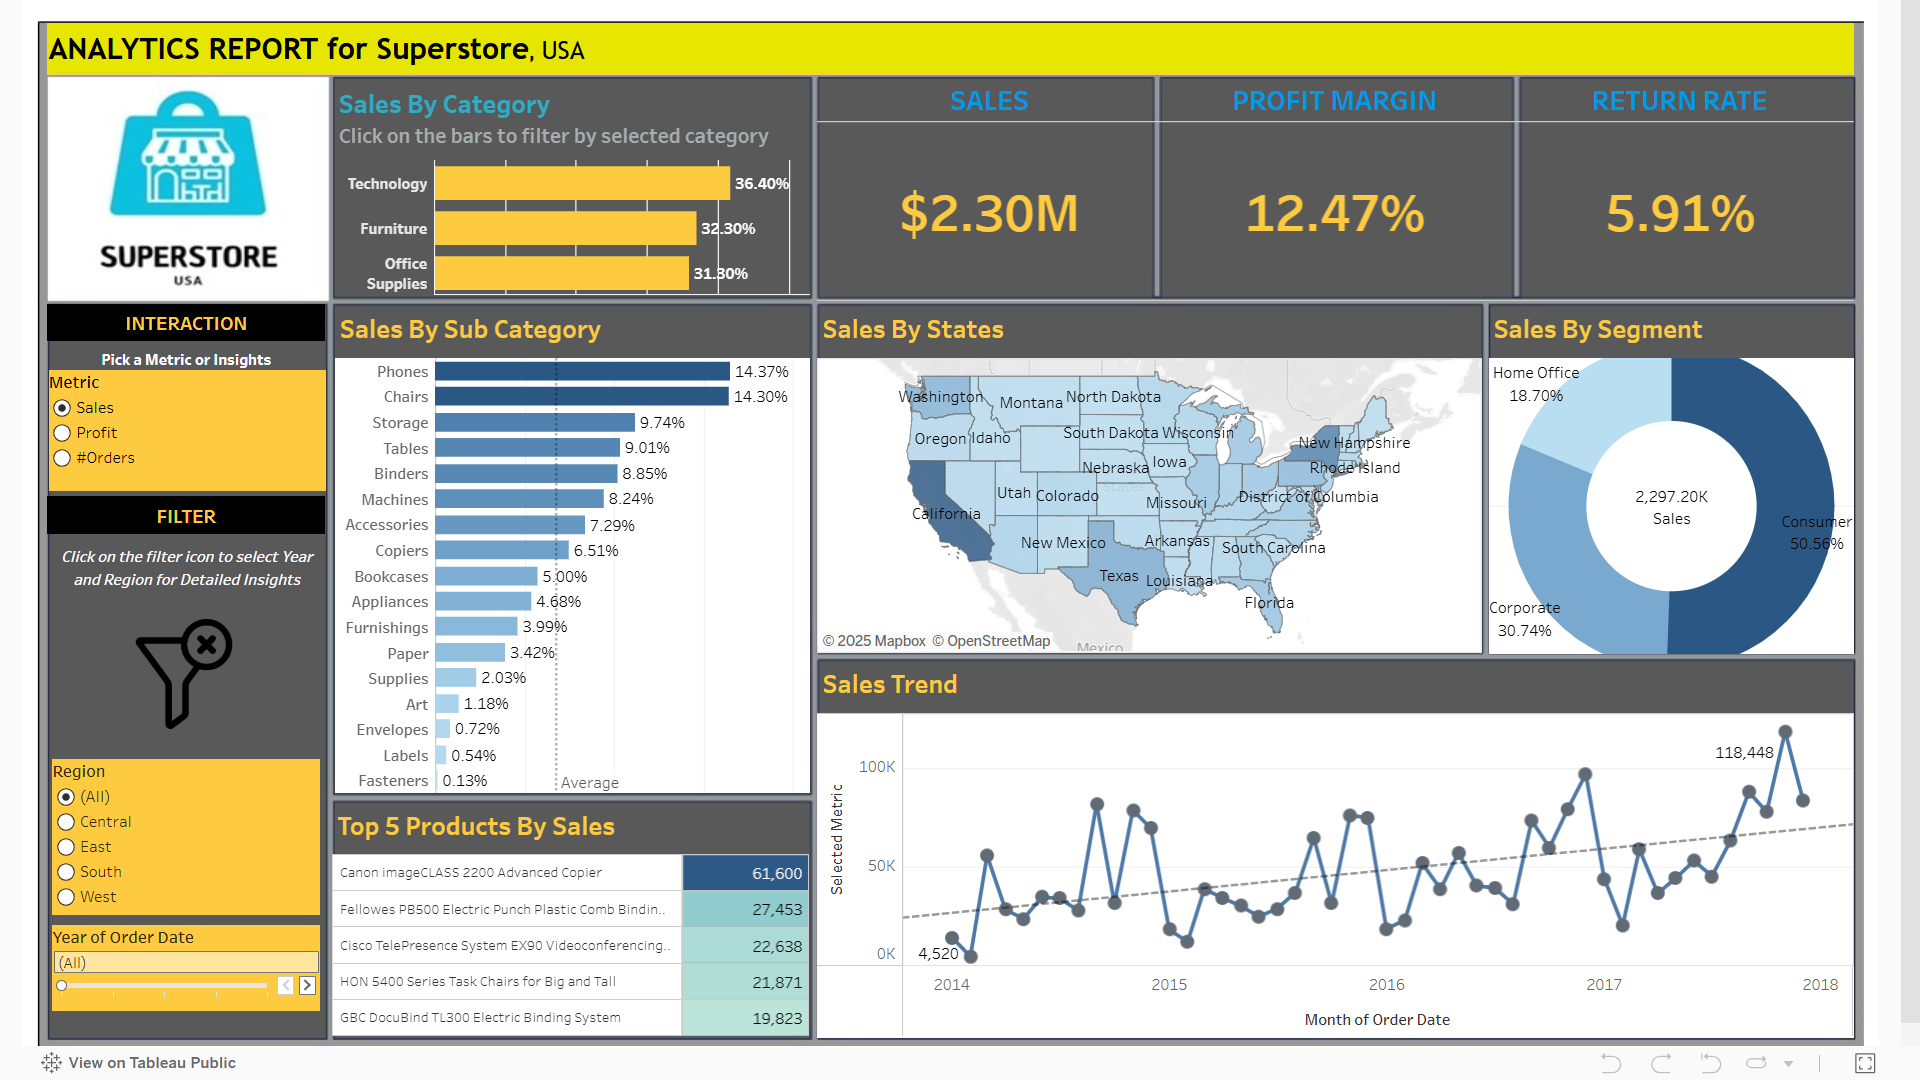

The dashboard page shown, as its layout file describes it:
{"tool":"tableau","page":{"name":"Dashboard","canvas":[1485,856],"ordinal":0},"visuals":[{"type":"image","param":"C:/Users/Soham Indore/OneDrive/Documents/My Tableau Repository/Workbooks/Superst","box":[8,8,1469,840]},{"type":"text","box":[20,18,1445,42]},{"type":"worksheet","title":"KPIs","mark":"Automatic","box":[636,61,829,180]},{"type":"worksheet","title":"CatSales","mark":"Automatic","rows":["Category"],"cols":["Calculation_141300484913192960"],"box":[249,62,381,174]},{"type":"text","box":[20,243,222,30]},{"type":"worksheet","title":"SubCatSales","mark":"Automatic","rows":["Sub-Category"],"cols":["Calculation_141300484913192960"],"box":[250,243,380,392]},{"type":"worksheet","title":"State Sales","mark":"Automatic","box":[636,243,532,279]},{"type":"worksheet","title":"Sales By Segment","mark":"Pie","rows":["Calculation_826410579654385665","Calculation_826410579654418435"],"box":[1173,243,292,280]},{"type":"text","box":[20,277,222,20]},{"type":"parameter","param":"[Parameters].[Parameter 3]","box":[21,296,222,97]},{"type":"text","box":[20,397,222,30]},{"type":"text","box":[21,426,221,56]},{"type":"dashboard-object","box":[81,495,97,88]},{"type":"worksheet","title":"TrendOverTime","mark":"Automatic","rows":["Calculation_141300484913192960","Calculation_141300484913192960"],"cols":["Order Date"],"box":[636,527,829,303]},{"type":"filter","title":"CatSales","param":"[federated.0rlq9nd1761cpy1cmkf331m58y5w].[none:Region:nk]","box":[20,603,222,133]},{"type":"worksheet","title":"Top 5 Products By Sales","mark":"Square","rows":["Product Name"],"box":[248,640,382,191]},{"type":"filter","title":"CatSales","param":"[federated.0rlq9nd1761cpy1cmkf331m58y5w].[yr:Order Date:ok]","box":[20,736,222,92]}]}

Visuals, with their boxes in screenshot pixels (x1, y1, x2, y2):
image: x1=30, y1=10, x2=1858, y2=1055
text: x1=45, y1=22, x2=1843, y2=75
"KPIs" worksheet: x1=811, y1=76, x2=1843, y2=300
"CatSales" worksheet: x1=330, y1=77, x2=804, y2=294
text: x1=45, y1=302, x2=321, y2=340
"SubCatSales" worksheet: x1=331, y1=302, x2=804, y2=790
"State Sales" worksheet: x1=811, y1=302, x2=1473, y2=649
"Sales By Segment" worksheet (Pie marks): x1=1479, y1=302, x2=1843, y2=651
text: x1=45, y1=345, x2=321, y2=370
parameter: x1=46, y1=368, x2=322, y2=489
text: x1=45, y1=494, x2=321, y2=531
text: x1=46, y1=530, x2=321, y2=600
dashboard-object: x1=121, y1=616, x2=241, y2=725
"TrendOverTime" worksheet: x1=811, y1=656, x2=1843, y2=1033
"CatSales" filter: x1=45, y1=750, x2=321, y2=916
"Top 5 Products By Sales" worksheet (Square marks): x1=329, y1=796, x2=804, y2=1034
"CatSales" filter: x1=45, y1=916, x2=321, y2=1030
